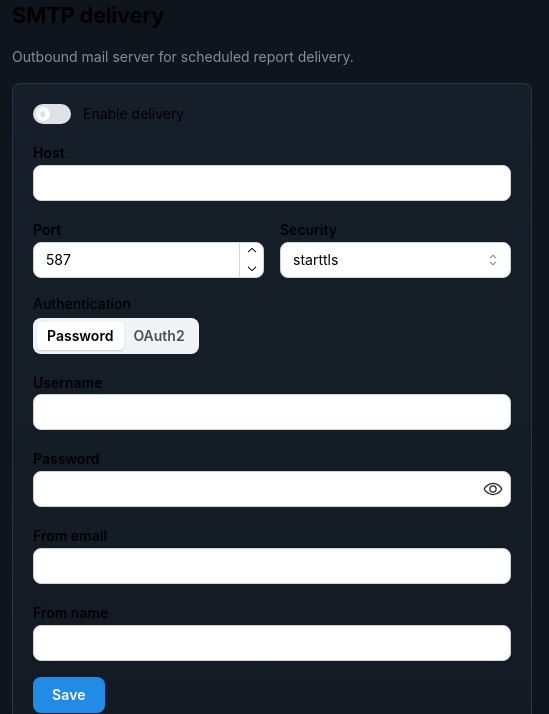
SmtpSettingsPage › reveals OAuth fields and the Tenant ID only for Microsoft
This screenshot has width=549, height=714.
Check: the field with test id "smtp-host" is shown, box [33,165,511,201]
Check: the field with test id "smtp-username" is shown, box [33,394,511,430]
// Switch to OAuth2: provider + client id/secret/refresh appear, username/password go away.
Click the text "OAuth2" at (159, 336), box [133,327,185,344]
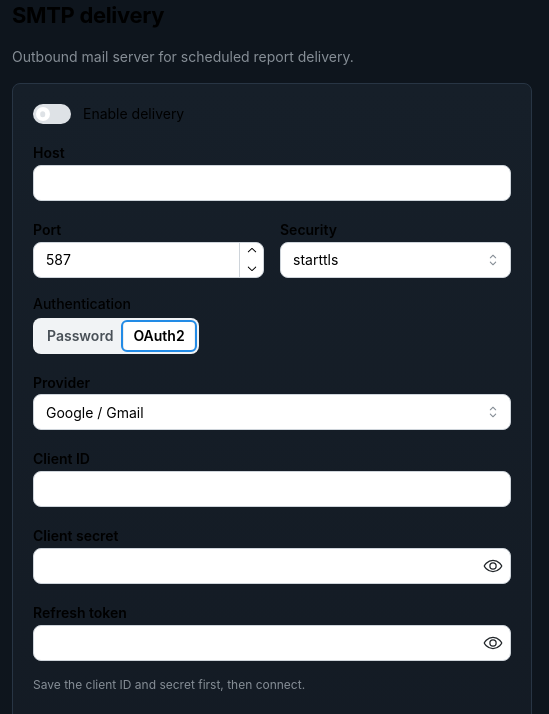
Check: the dropdown with test id "smtp-oauth-provider" is shown
Check: the field with test id "smtp-oauth-client-id" is shown, box [33,471,511,507]
Check: the password field with test id "smtp-oauth-client-secret" is shown, box [34,549,510,583]
Click the dropdown with test id "smtp-oauth-provider" at (272, 412), box [33,394,511,430]
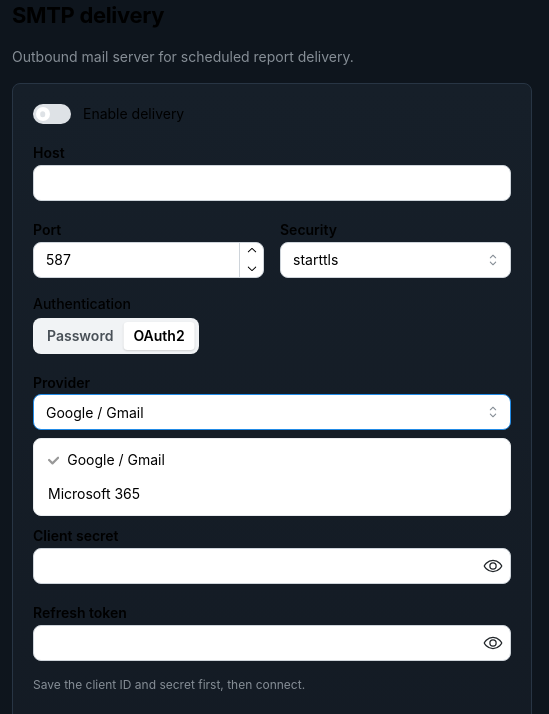
Click the option "Microsoft 365" at (94, 494), box [48,485,140,502]
(page scrolled)
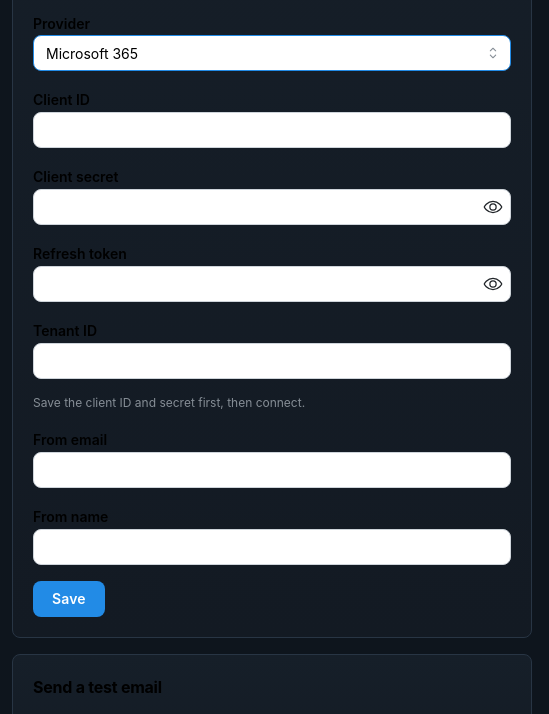
Check: the field with test id "smtp-oauth-tenant-id" is shown, box [33,343,511,379]
